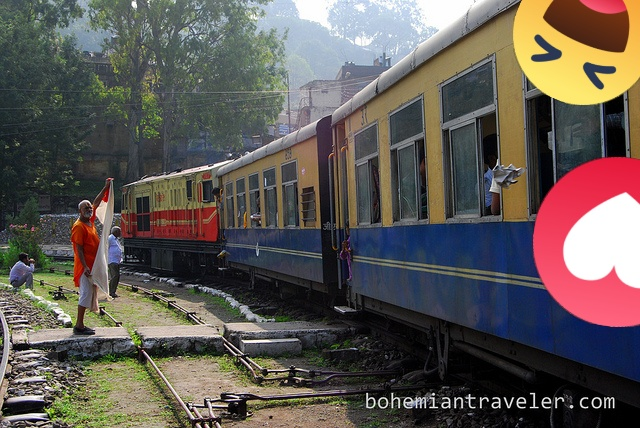haha: (513, 0, 640, 105)
love: (533, 157, 640, 327)
